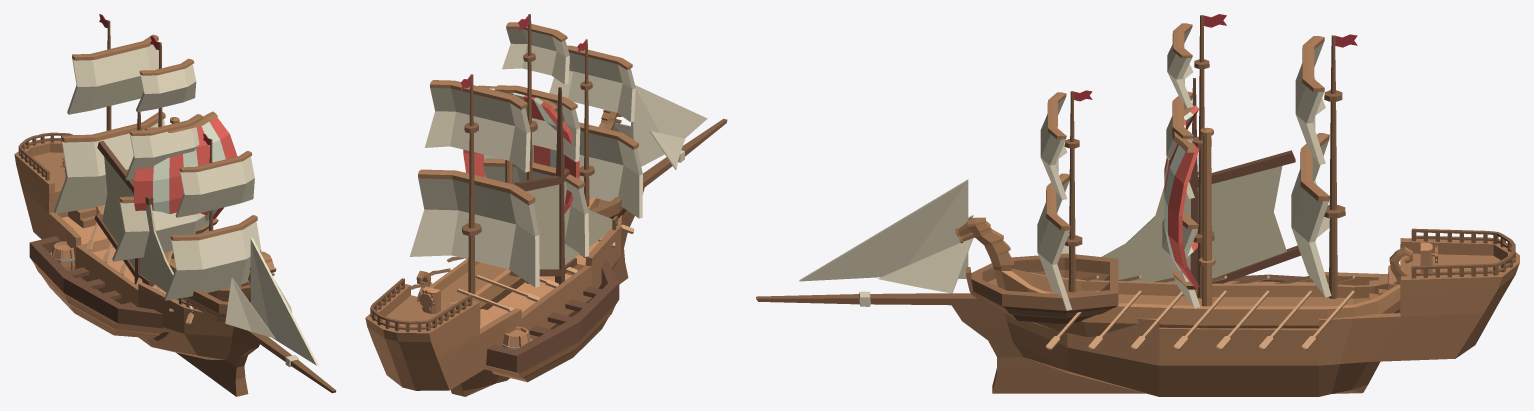
The model's file is gameShips.gltf.
3 renders of one model, left to right at view 1: azimuth 30°, elevation 25°; view 2: azimuth 150°, elevation 25°; view 3: azimuth 270°, elevation 25°, orthographic. The views are drawn at different scales.
Visible parts, largest first — view 1: FourDeck, twoDeck, threeDeck, oneDeck; view 2: FourDeck, twoDeck, threeDeck, oneDeck; view 3: FourDeck, threeDeck, twoDeck, oneDeck.
Part boxes in pixels (bbox=[...]): FourDeck: bbox=[14, 14, 336, 396]; twoDeck: bbox=[29, 111, 192, 340]; threeDeck: bbox=[86, 111, 276, 324]; oneDeck: bbox=[174, 270, 241, 321]; FourDeck: bbox=[365, 14, 727, 396]; twoDeck: bbox=[485, 87, 621, 382]; threeDeck: bbox=[411, 85, 634, 311]; oneDeck: bbox=[590, 197, 626, 219]; FourDeck: bbox=[756, 14, 1519, 396]; threeDeck: bbox=[955, 105, 1412, 350]; twoDeck: bbox=[1101, 78, 1313, 283]; oneDeck: bbox=[966, 253, 1118, 323].
Bounding box in the file's own units: 1.34 × 2.72 × 5.01.
